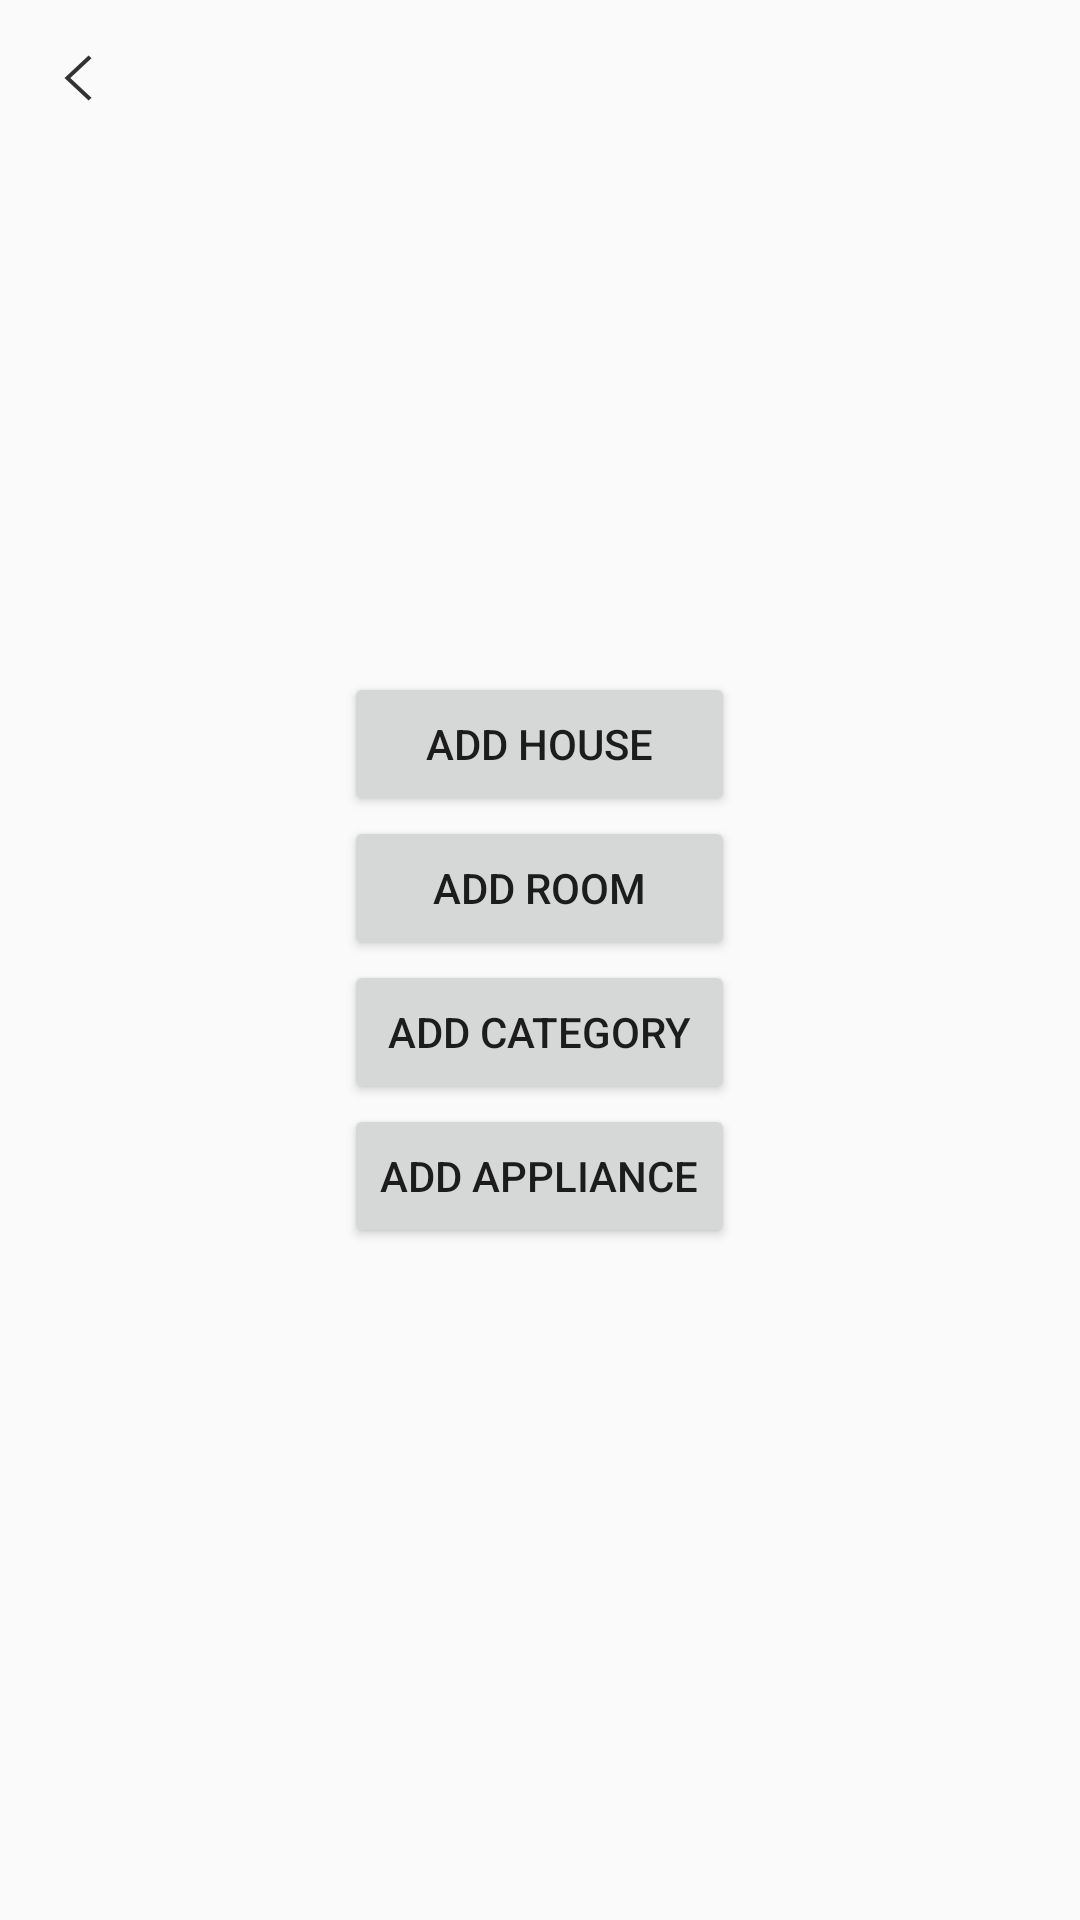

Named icons in this screenshot (1080w x 1920h) and their centers, (x,y):
arrow left: (78,78)
